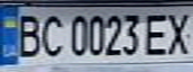0: (66, 11, 90, 57), (87, 11, 106, 57)
2: (103, 10, 127, 57)
3: (121, 10, 145, 57)
B: (9, 10, 45, 58)
C: (36, 11, 66, 58)
E: (142, 9, 175, 56)
X: (163, 8, 193, 56)
